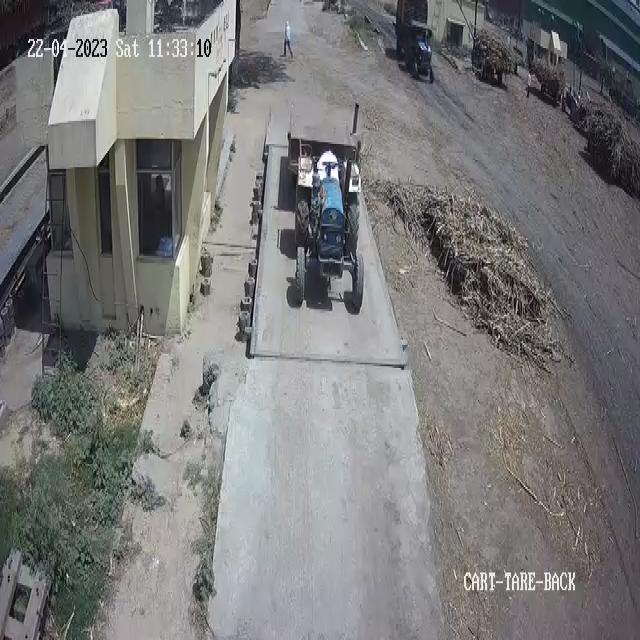Tratores - v5 YOLO V8L 2024-11-13: (287, 163, 372, 320)
